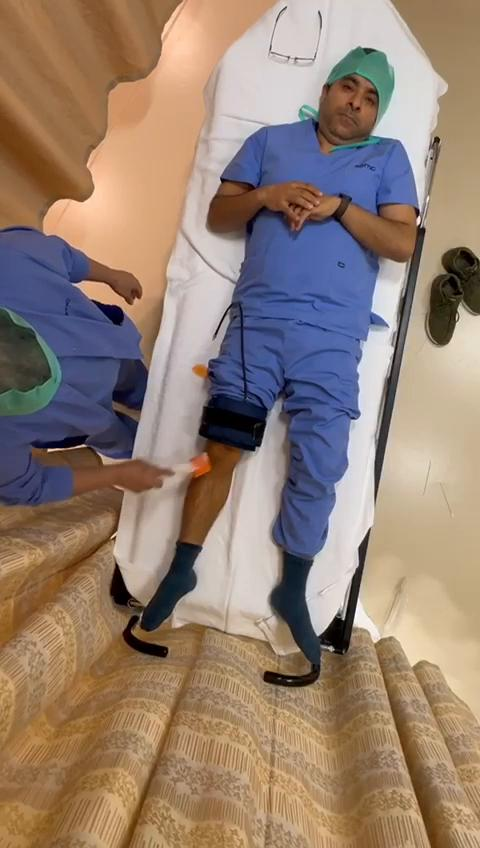patient: (141, 46, 417, 665)
prepstick: (162, 452, 210, 488)
tourniquet: (199, 396, 267, 450)
